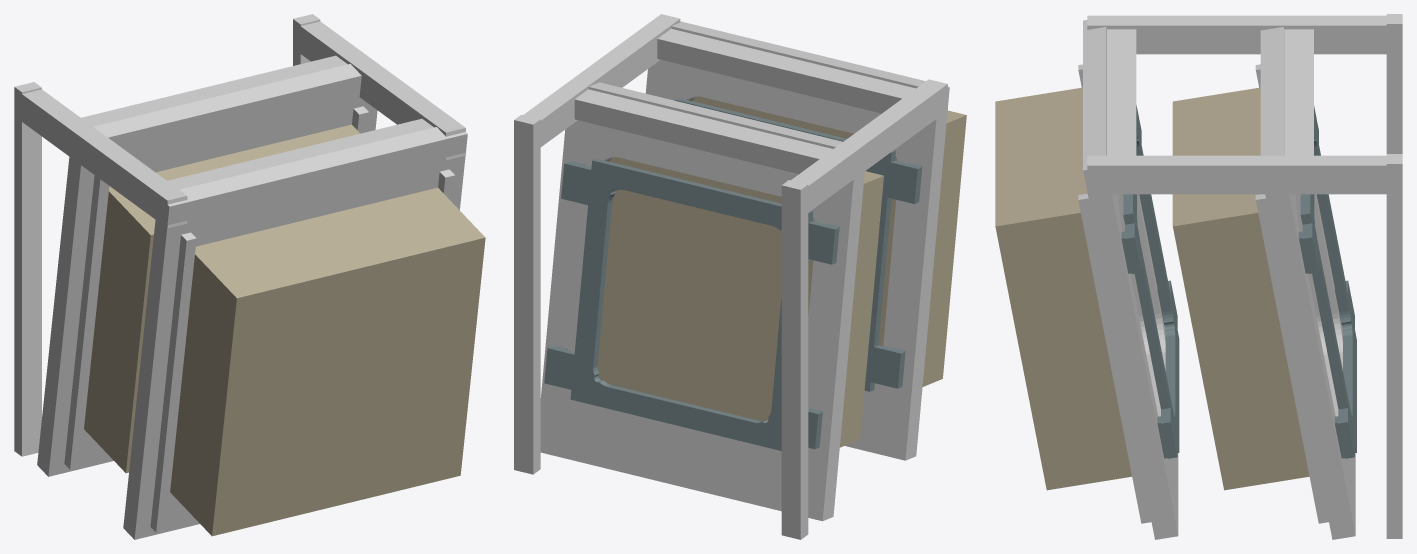
The model's file is assembly.glb.
3 views of the same model, side by side, from view 1: azimuth 30°, elevation 25°; view 2: azimuth 150°, elevation 25°; view 3: azimuth 270°, elevation 25° (orthographic). The views are drawn at different scales.
Visible parts, largest first — view 1: rack, DGX Spark 2, DGX Spark 1; view 2: rack, DGX Spark 1, Removable fan tray 1, DGX Spark 2, Removable fan tray 2; view 3: rack, DGX Spark 2, DGX Spark 1, Removable fan tray 2, Removable fan tray 1.
Part boxes in pixels (box(x1,y1,x2,y2)): rack: box(14, 14, 467, 539); DGX Spark 2: box(170, 187, 485, 536); DGX Spark 1: box(84, 124, 359, 473); rack: box(514, 14, 949, 539); DGX Spark 1: box(597, 157, 883, 447); Removable fan tray 1: box(544, 158, 839, 450); DGX Spark 2: box(692, 96, 966, 386); Removable fan tray 2: box(675, 98, 922, 391); rack: box(1078, 14, 1402, 539); DGX Spark 2: box(995, 87, 1131, 490); DGX Spark 1: box(1172, 87, 1309, 490); Removable fan tray 2: box(1121, 105, 1179, 458); Removable fan tray 1: box(1298, 106, 1356, 458).
Size of the model in its own units: 180 by 210 by 207.
